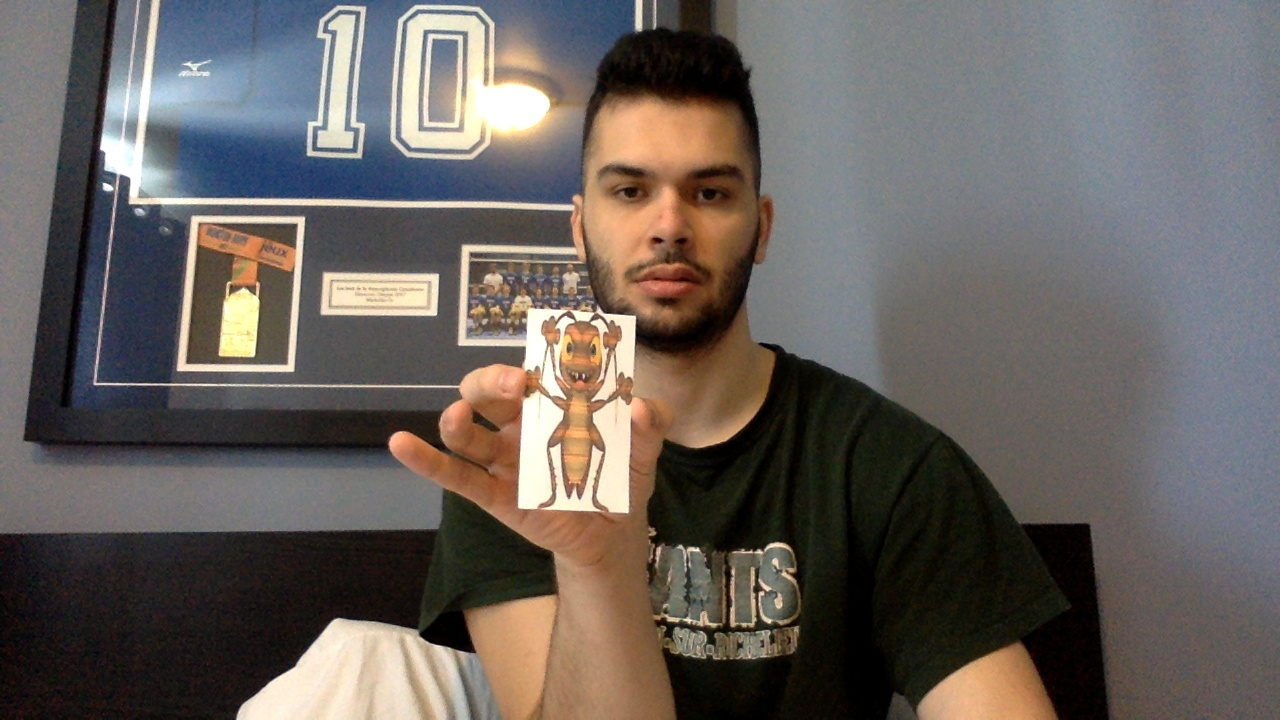Angry: (520, 311, 632, 514)
